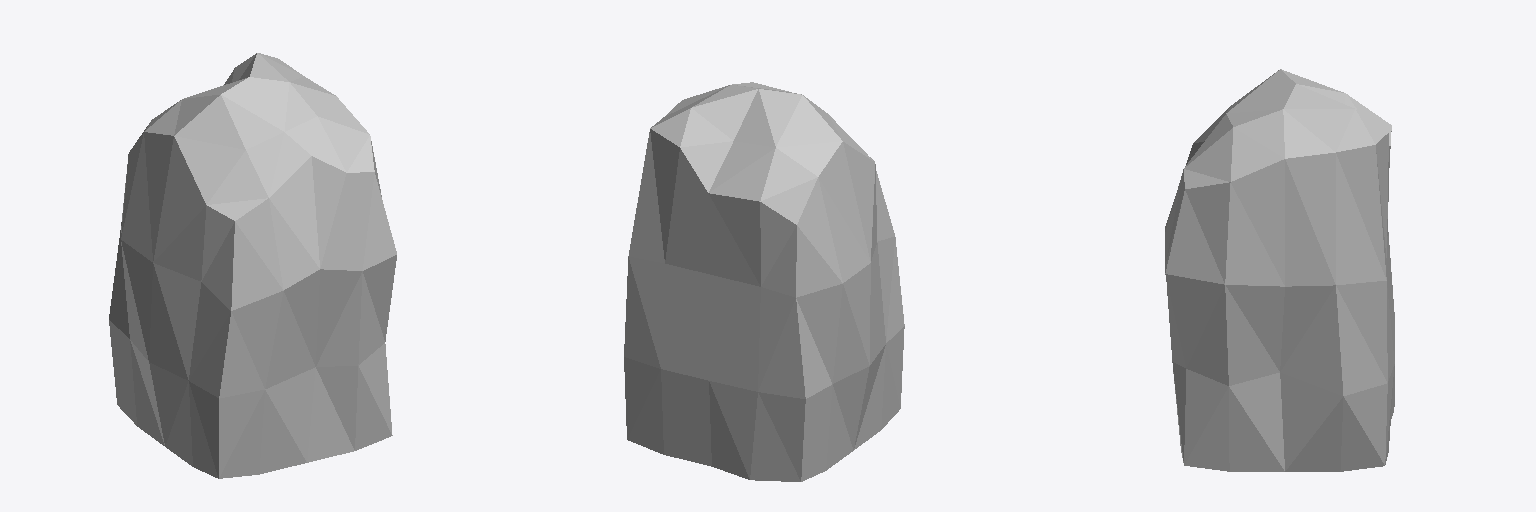
The model's file is obstacle3.obj.
The picture shows the model from 3 angles: view 1: azimuth 30°, elevation 25°; view 2: azimuth 150°, elevation 25°; view 3: azimuth 270°, elevation 25°; orthographic projection.
Visible parts, largest first — view 1: Cube_Cube.001; view 2: Cube_Cube.001; view 3: Cube_Cube.001.
Part boxes in pixels (bbox=[...]): Cube_Cube.001: bbox=[109, 53, 396, 478]; Cube_Cube.001: bbox=[624, 82, 904, 481]; Cube_Cube.001: bbox=[1165, 69, 1394, 471].
Bounding box in the file's own units: 2.19 × 3.44 × 2.07.